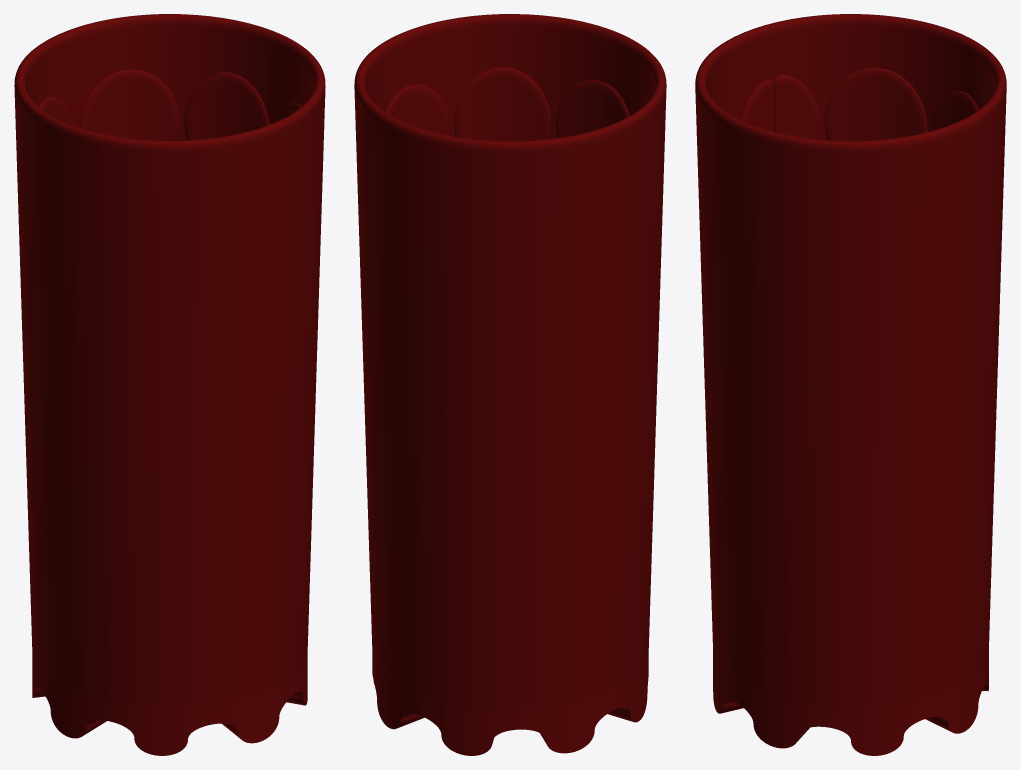
Rendered from orchid80.glb.
3 renders of one model, left to right at view 1: azimuth 30°, elevation 25°; view 2: azimuth 150°, elevation 25°; view 3: azimuth 270°, elevation 25°, orthographic.
Size of the model in its own units: 0.0565 by 0.1242 by 0.0565.
